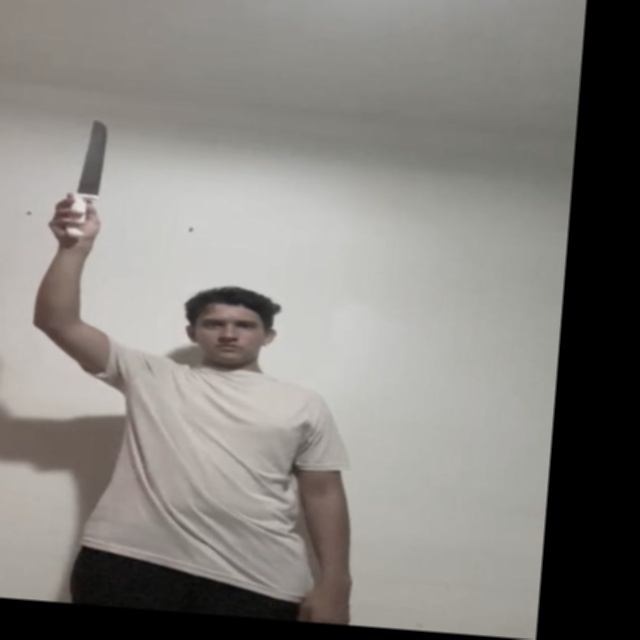Sharp-Object: (76, 119, 111, 199)
